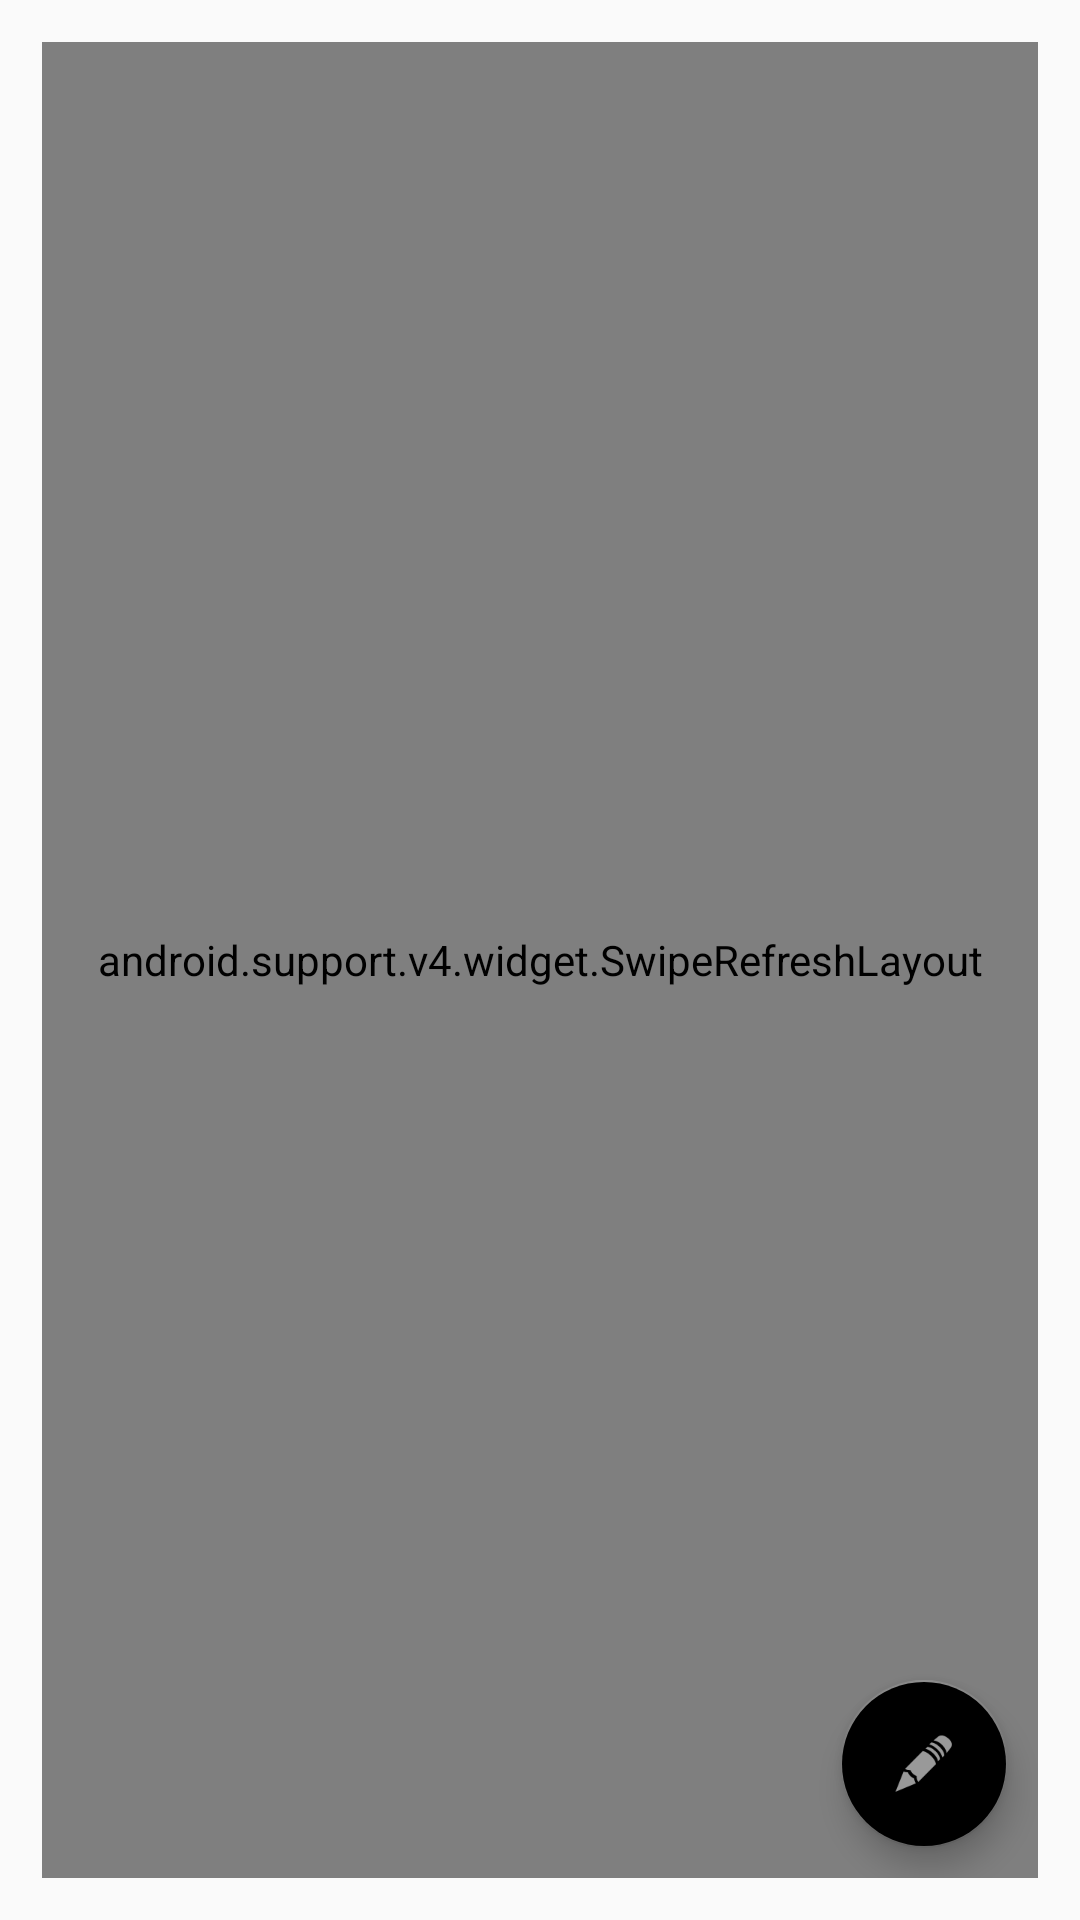

Icon click points for this 1080 x 1920 phone screenshot, format point (x, y):
edit: point (924, 1765)
